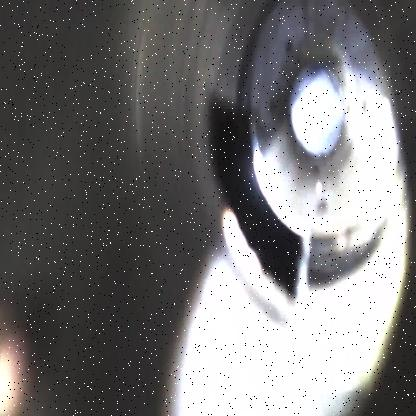Crack2: (201, 88, 310, 305)
